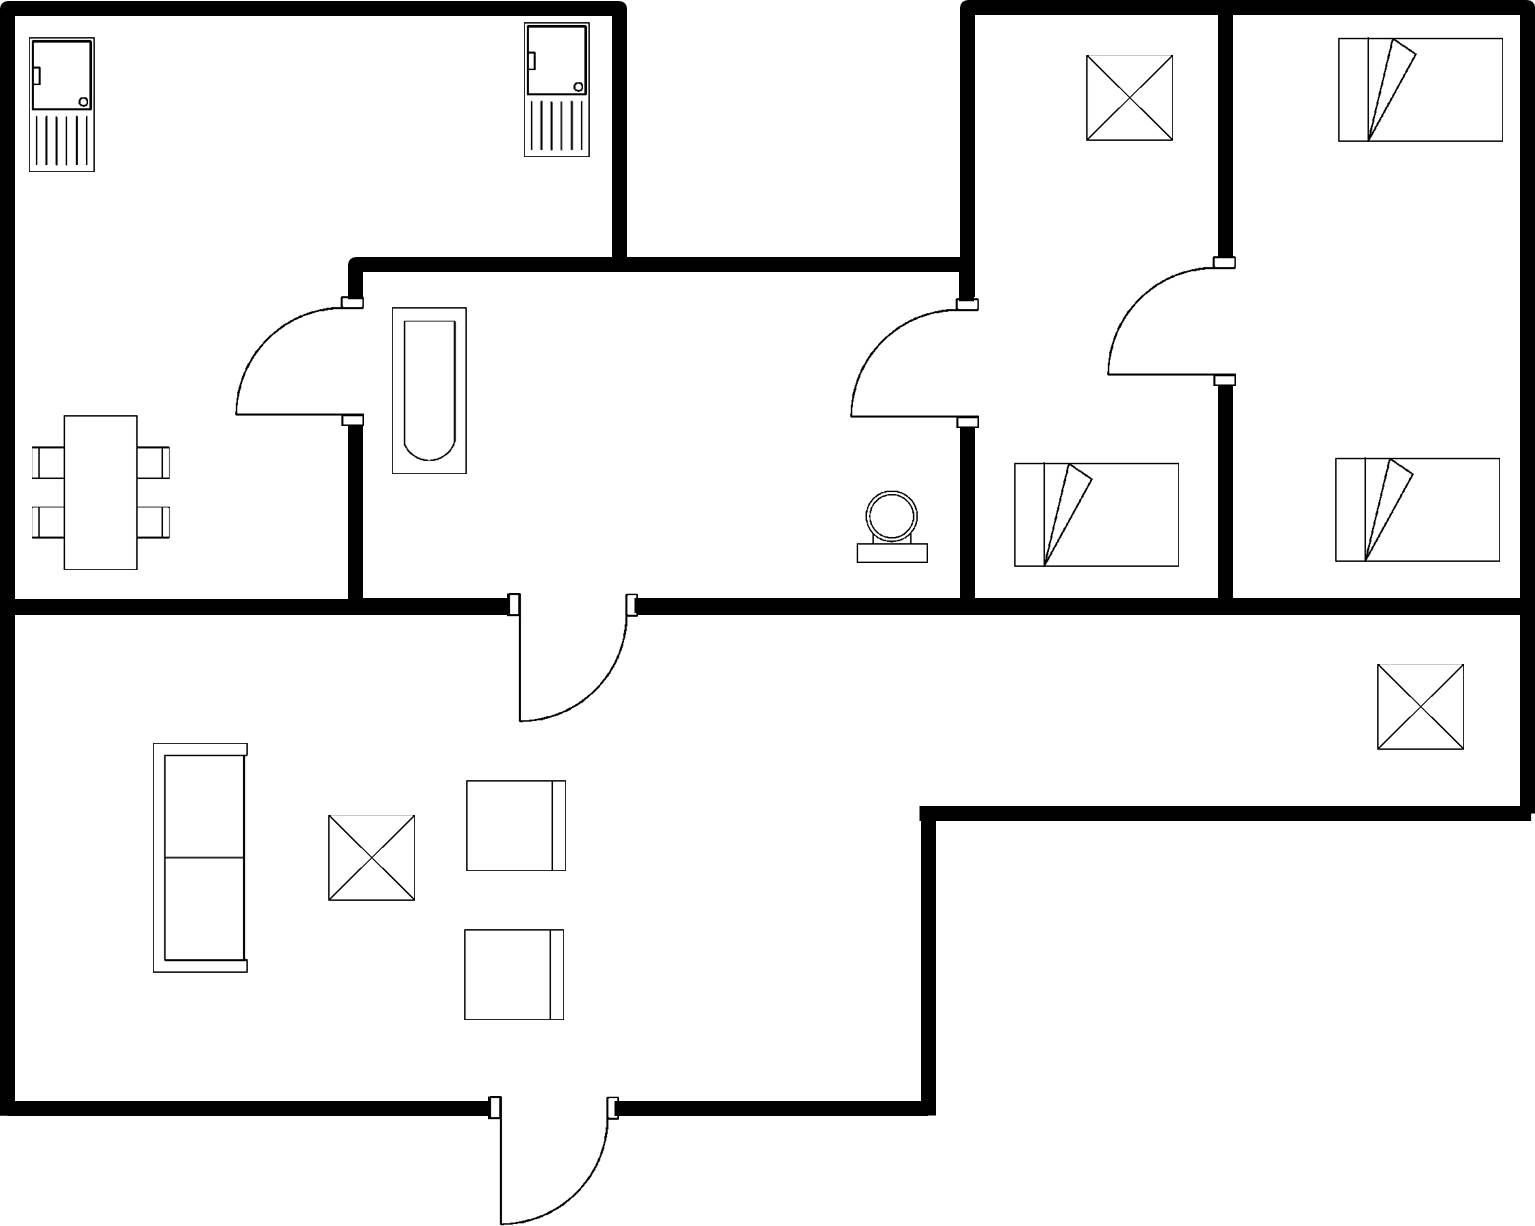bed: (1330, 30, 1512, 150), (1326, 449, 1507, 568), (1007, 454, 1188, 572)
coffee_table: (1075, 46, 1187, 150), (1366, 658, 1475, 756), (321, 809, 424, 909)
dining_table: (24, 404, 178, 580)
large_sink: (846, 483, 941, 574)
large_sofa: (146, 733, 259, 984)
sink: (22, 29, 107, 180), (516, 16, 599, 168)
small_sofa: (456, 917, 576, 1029), (457, 772, 577, 880)
tub: (381, 302, 481, 484)
